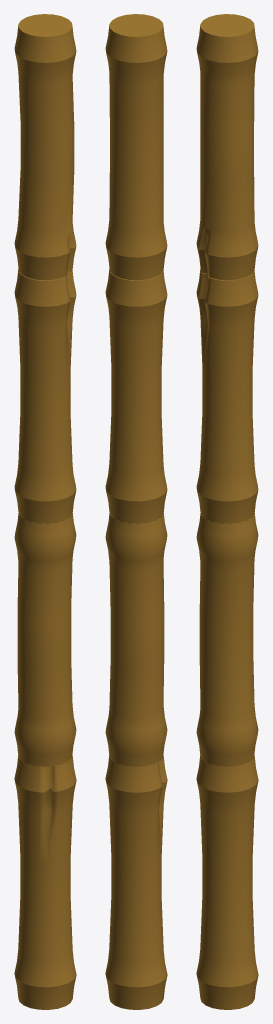
File: Cave_Prop_Bamboo_Individual.FBX
3 views of the same model, side by side, from view 1: azimuth 90°, elevation 25°; view 2: azimuth 150°, elevation 25°; view 3: azimuth 330°, elevation 25° (orthographic).
Visible parts, largest first — view 1: Cylinder013, Cylinder011, Cylinder001, Cylinder012; view 2: Cylinder013, Cylinder011, Cylinder001, Cylinder012; view 3: Cylinder013, Cylinder011, Cylinder001, Cylinder012.
Boxes of the visible parts, x1,y1,x2,y2 form: Cylinder013: [14, 14, 76, 280]; Cylinder011: [14, 513, 76, 766]; Cylinder001: [14, 755, 76, 1009]; Cylinder012: [14, 268, 76, 524]; Cylinder013: [105, 14, 167, 280]; Cylinder011: [105, 513, 167, 766]; Cylinder001: [105, 755, 167, 1009]; Cylinder012: [105, 268, 167, 524]; Cylinder013: [196, 14, 258, 280]; Cylinder011: [196, 513, 258, 766]; Cylinder001: [196, 755, 258, 1009]; Cylinder012: [196, 268, 258, 524].
Bounding box in the file's own units: 12.35 × 12.35 × 213.
